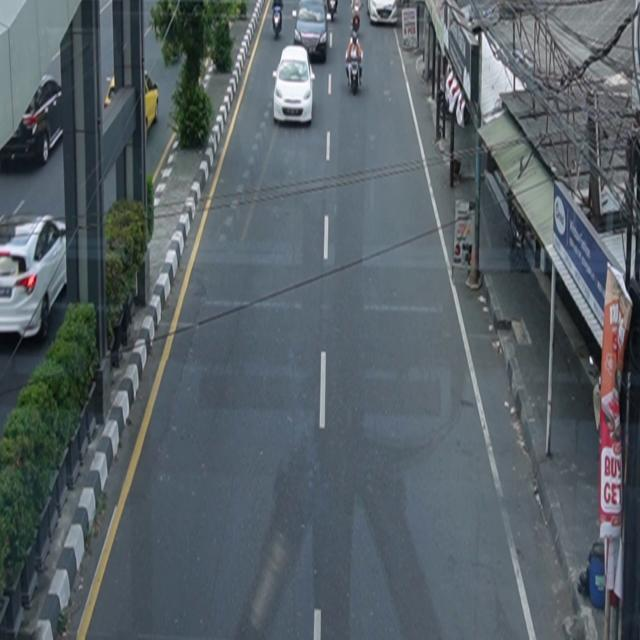car: (1, 214, 68, 343), (105, 69, 160, 134), (273, 46, 316, 126), (294, 1, 328, 63), (367, 1, 398, 26)
